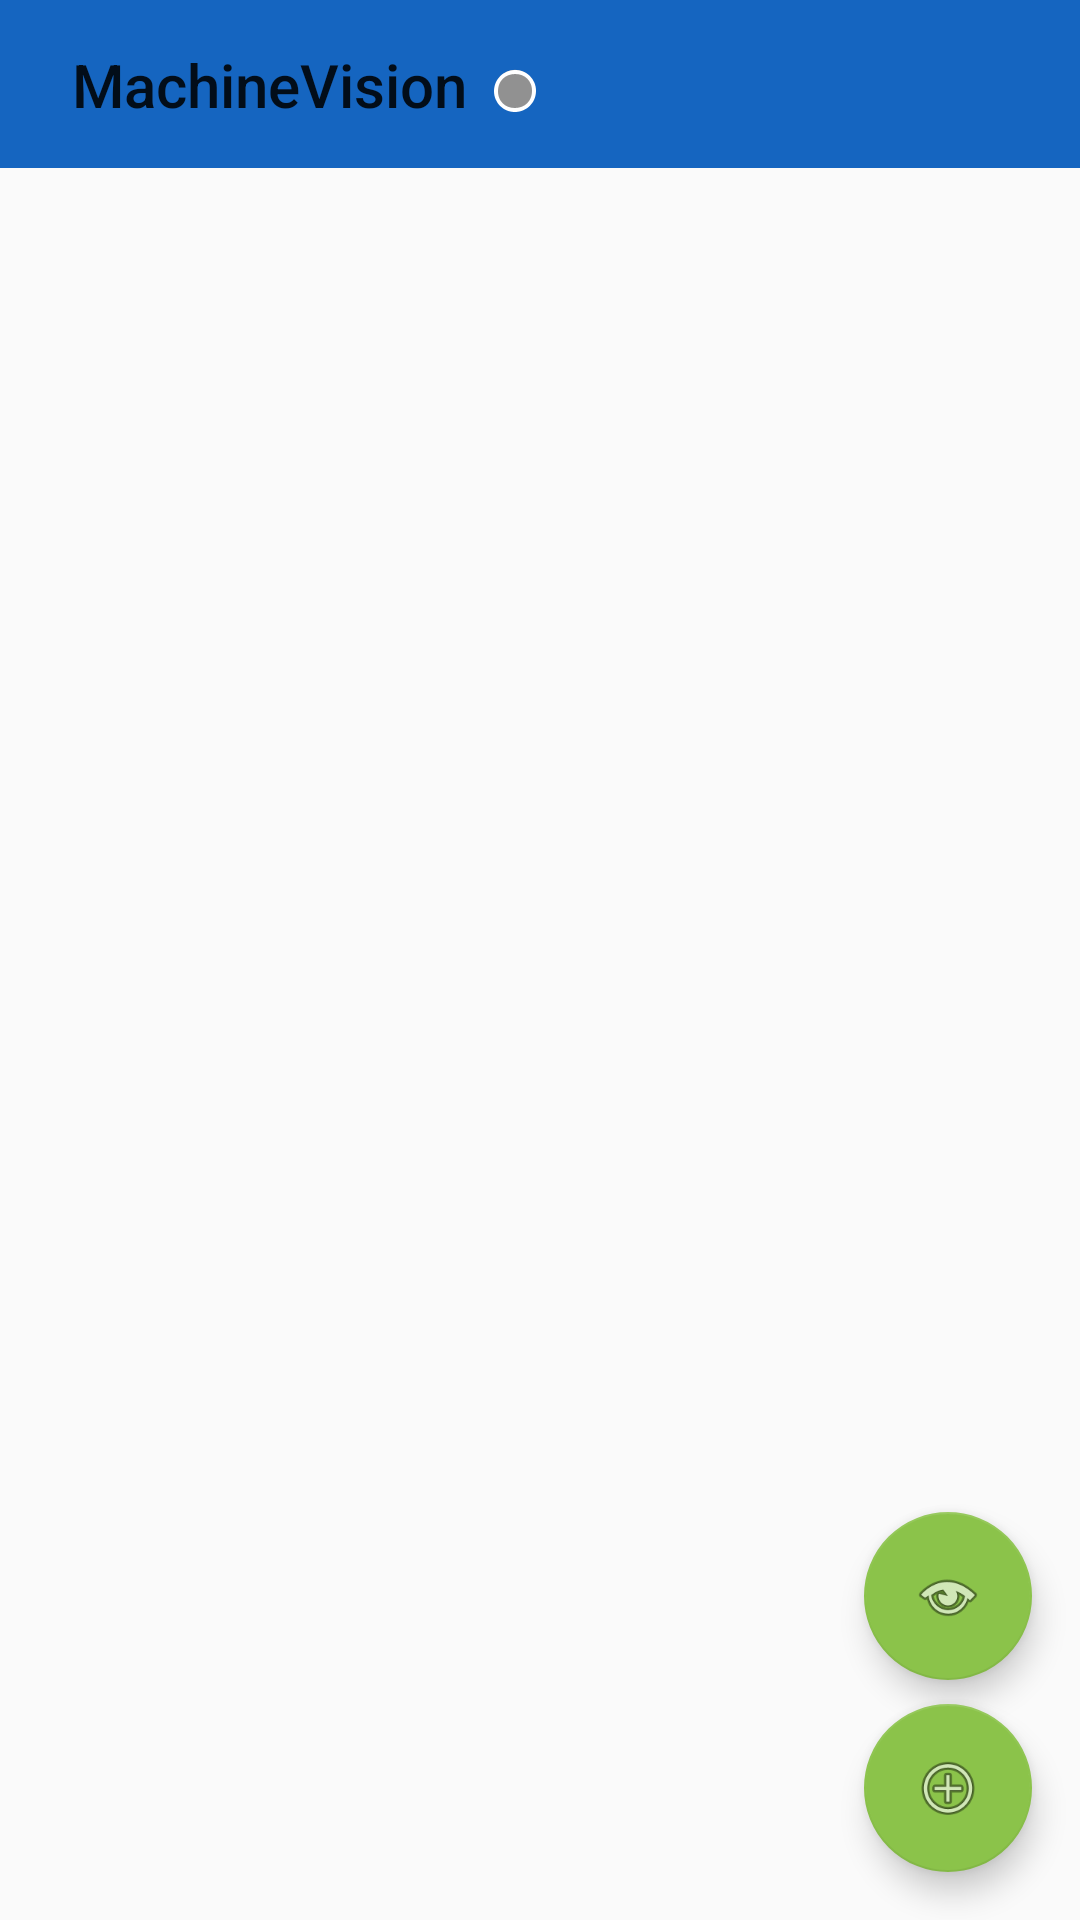

Icons on this 1080px×1920px Android screen, each with its box as (x1, y1, x2, y2):
add: (864, 1704, 1032, 1872)
presence invisible: (494, 70, 536, 112)
view: (864, 1512, 1032, 1680)
